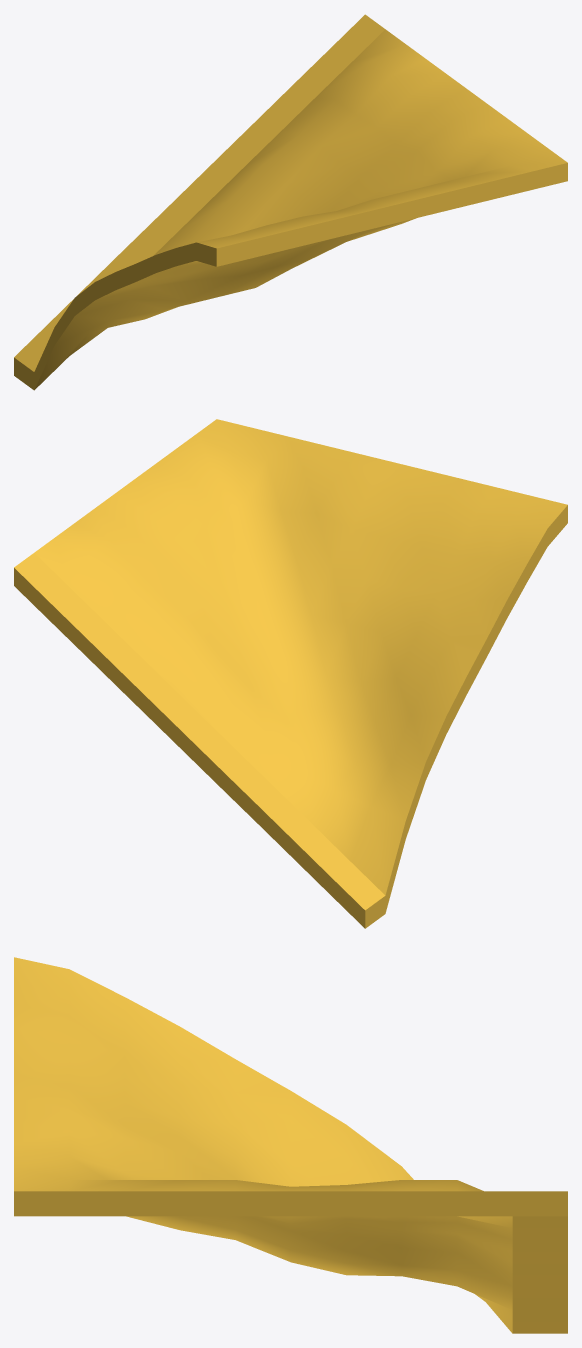
The model's file is Steil - Mitte -  Ecke Invertiert x - b.fbx.
The picture shows the model from 3 angles, top to bottom: view 1: azimuth 30°, elevation 25°; view 2: azimuth 150°, elevation 25°; view 3: azimuth 270°, elevation 25°; orthographic projection. The views are drawn at different scales.
Parts seen in each view (by area): view 1: Steil - Mitte - Ecke Invertiert x - b; view 2: Steil - Mitte - Ecke Invertiert x - b; view 3: Steil - Mitte - Ecke Invertiert x - b.
Boxes of the visible parts, x1,y1,x2,y2 form: Steil - Mitte - Ecke Invertiert x - b: (14, 14, 567, 390); Steil - Mitte - Ecke Invertiert x - b: (14, 419, 567, 928); Steil - Mitte - Ecke Invertiert x - b: (14, 957, 567, 1333).
Size of the model in its own units: 394 by 295 by 394.
